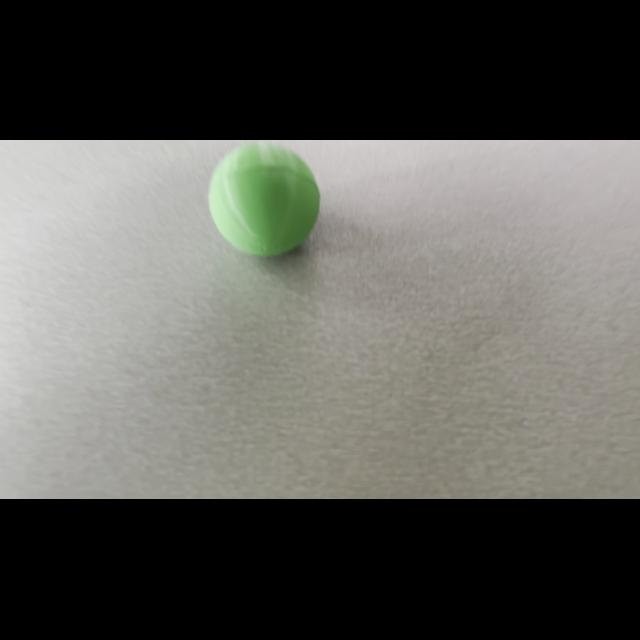objects: (204, 140, 326, 264)
